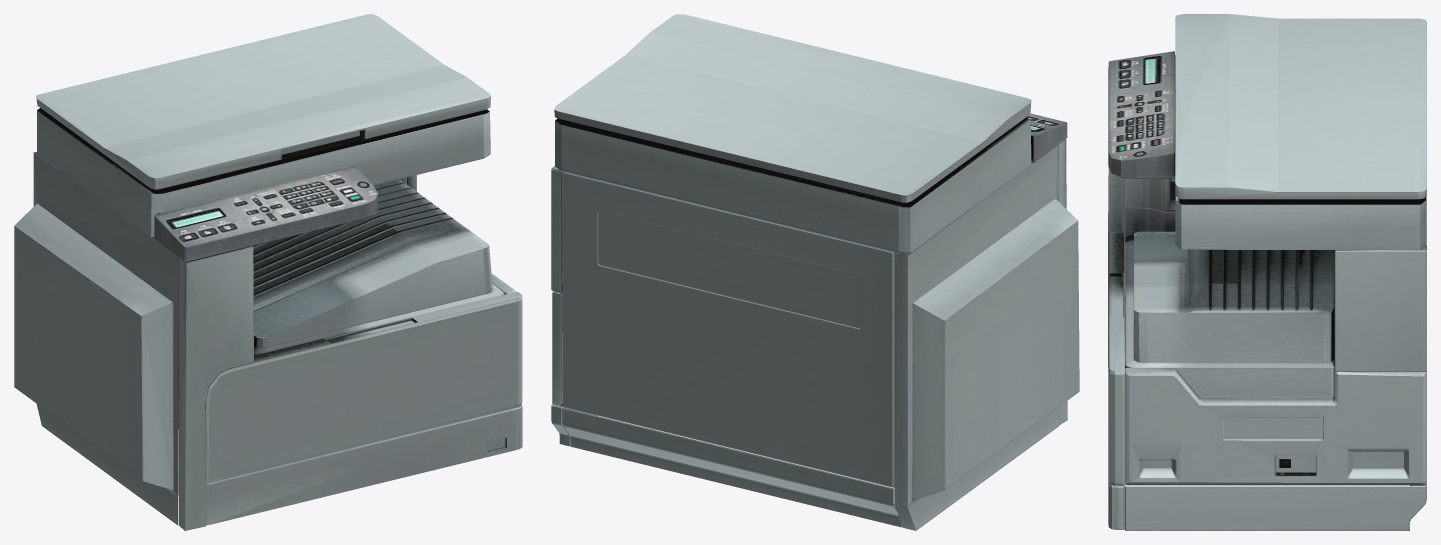
Rendered from 3DGJ_chksh_dyj_xp_zxx.FBX.
3 renders of one model, left to right at view 1: azimuth 30°, elevation 25°; view 2: azimuth 150°, elevation 25°; view 3: azimuth 270°, elevation 25°, orthographic. The views are drawn at different scales.
Visible parts, largest first — view 1: 3DGJ_chksh_dyj_xp_zxx; view 2: 3DGJ_chksh_dyj_xp_zxx; view 3: 3DGJ_chksh_dyj_xp_zxx.
Boxes of the visible parts, <box> form: 3DGJ_chksh_dyj_xp_zxx: <box>14,14,522,530</box>; 3DGJ_chksh_dyj_xp_zxx: <box>551,14,1079,530</box>; 3DGJ_chksh_dyj_xp_zxx: <box>1108,14,1426,530</box>.
Size of the model in its own units: 1.28 by 1.1 by 0.9215.
